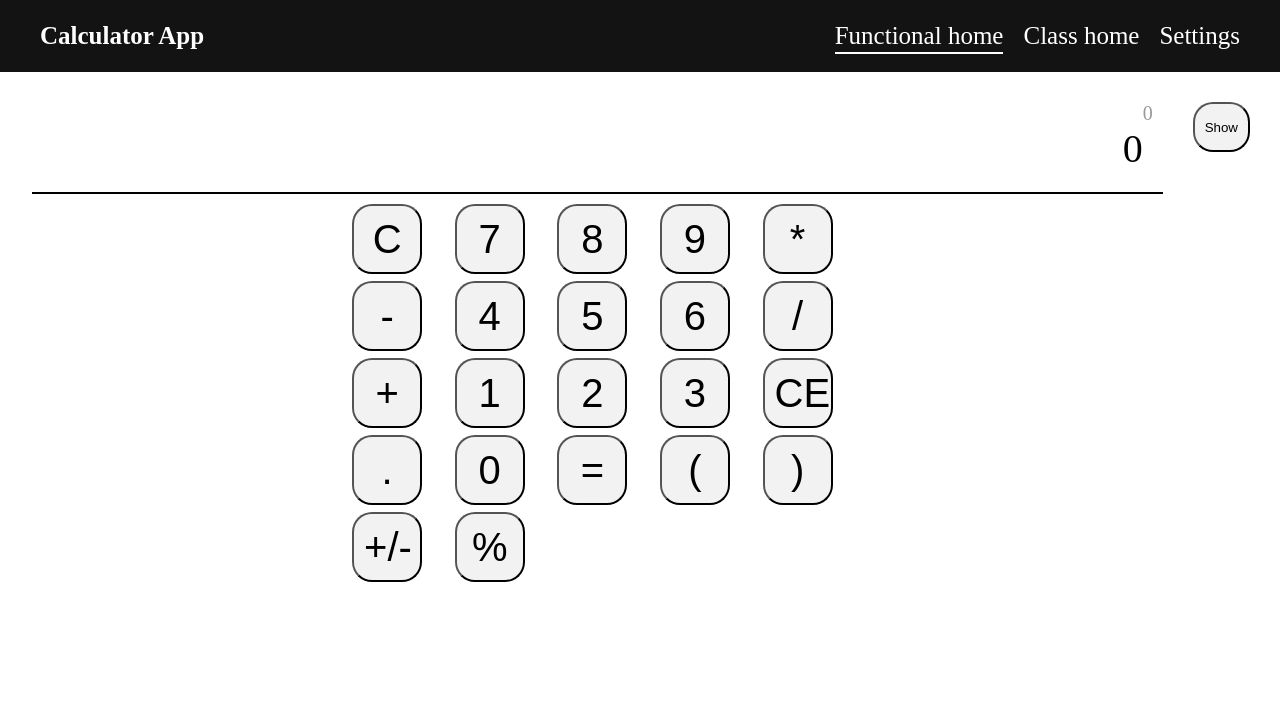
Test: checkArithmetical › basicTestAddition
Click the button "3": (695, 393) [660, 358, 730, 428]
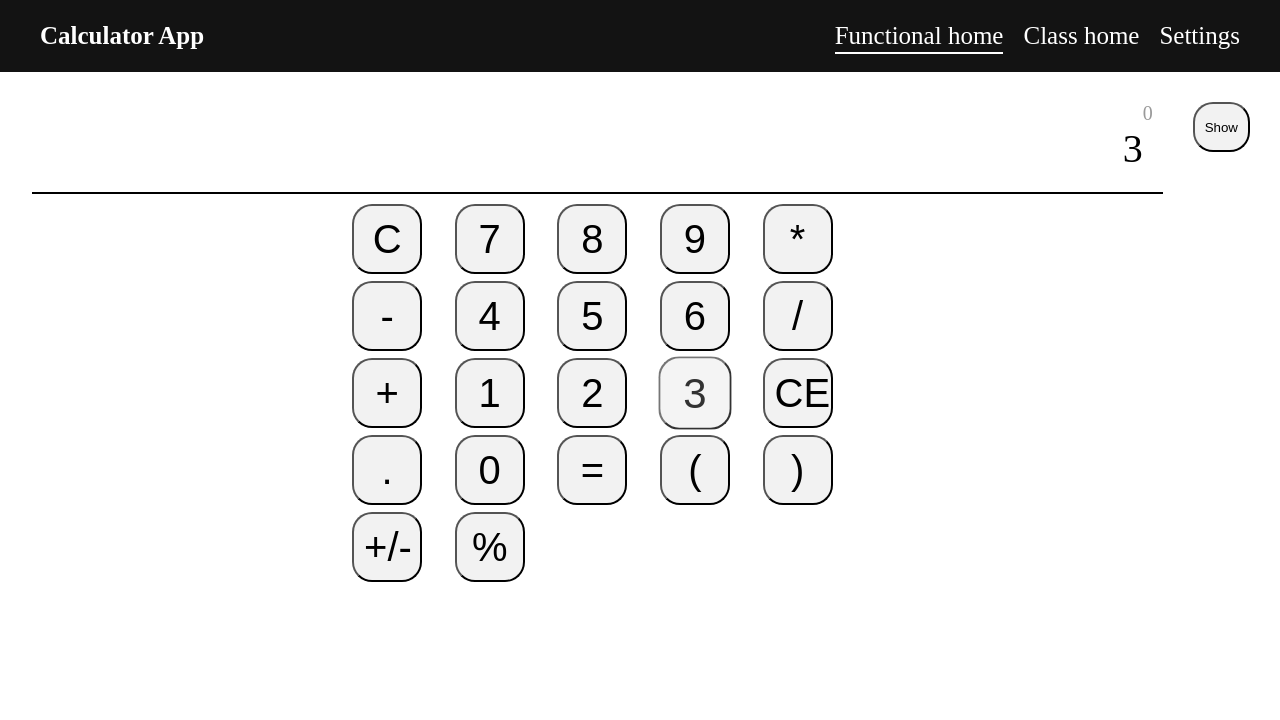
Click the button "+": (387, 393) [352, 358, 422, 428]
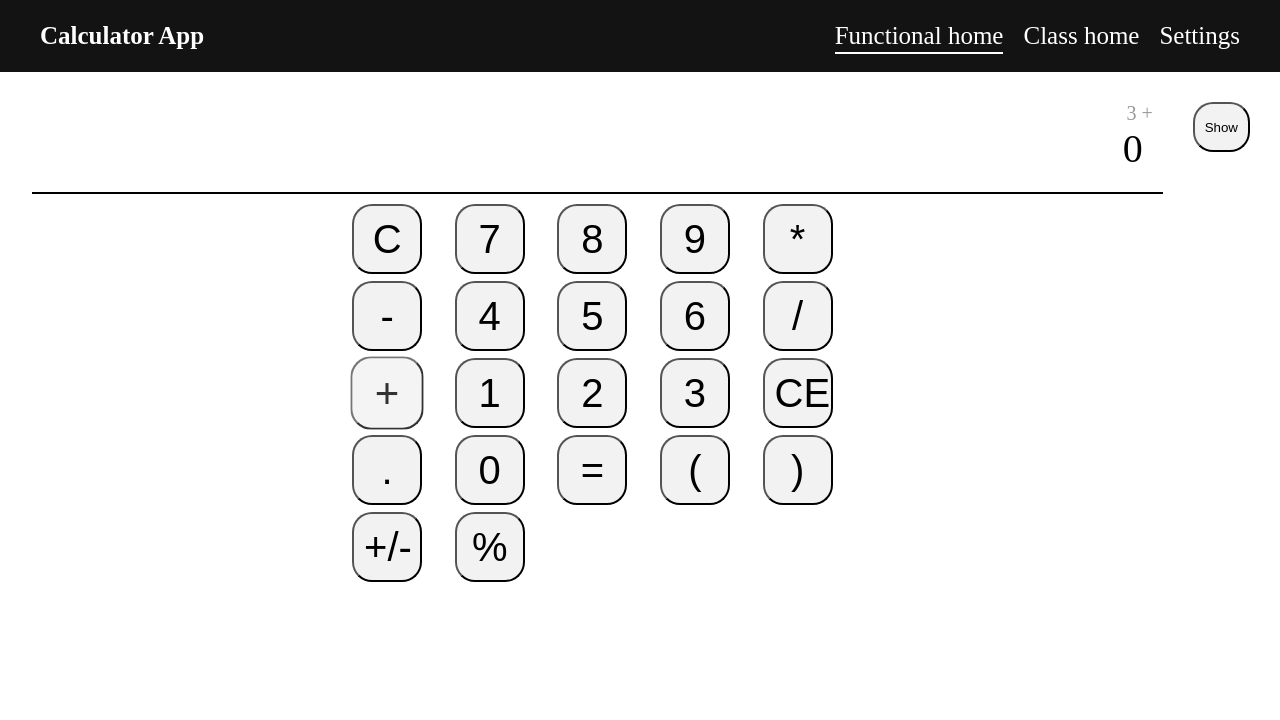
Click the button "2": (592, 393) [557, 358, 627, 428]
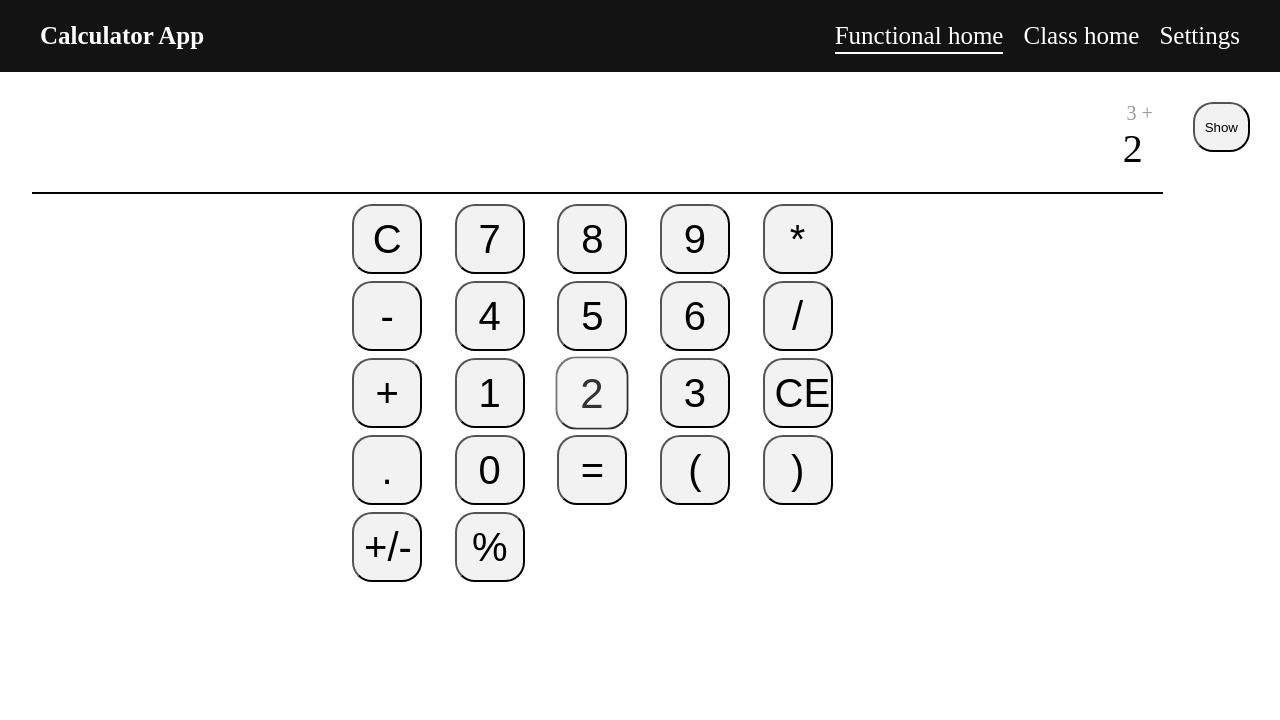
Click the button "=": (592, 470) [557, 435, 627, 505]
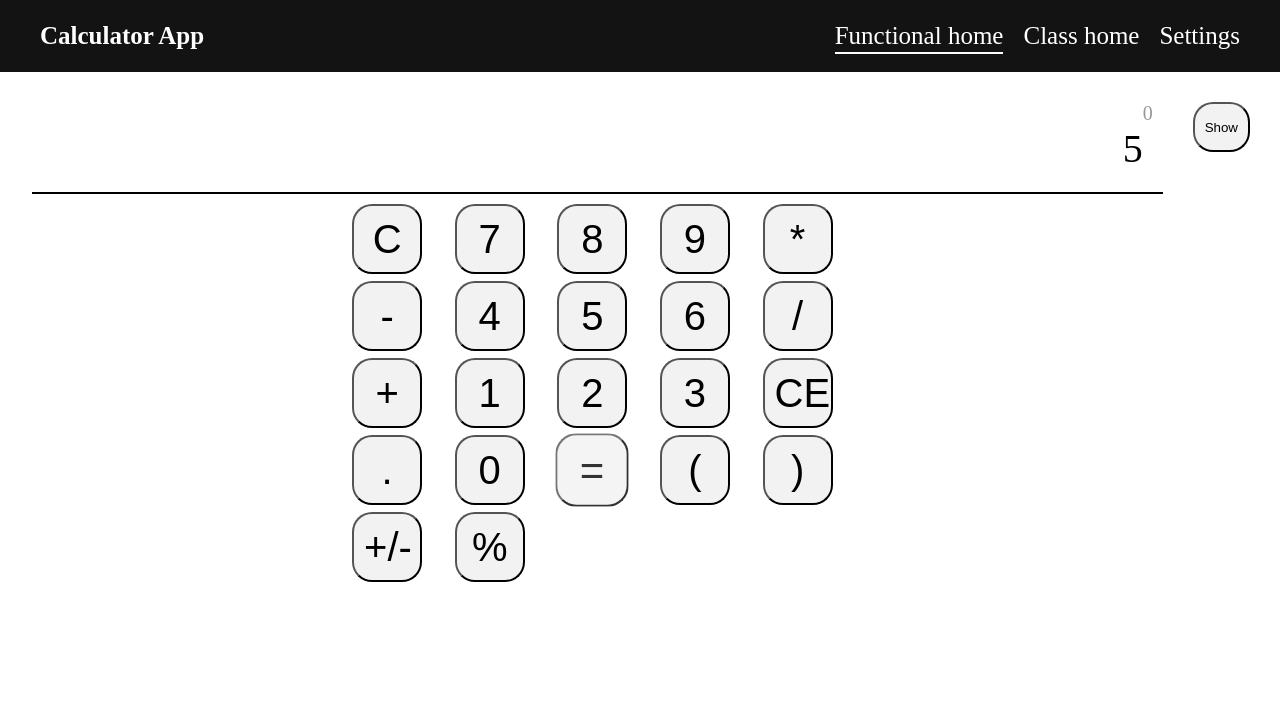
Now the text with id "expression" reads "5", box [1123, 126, 1143, 171]
